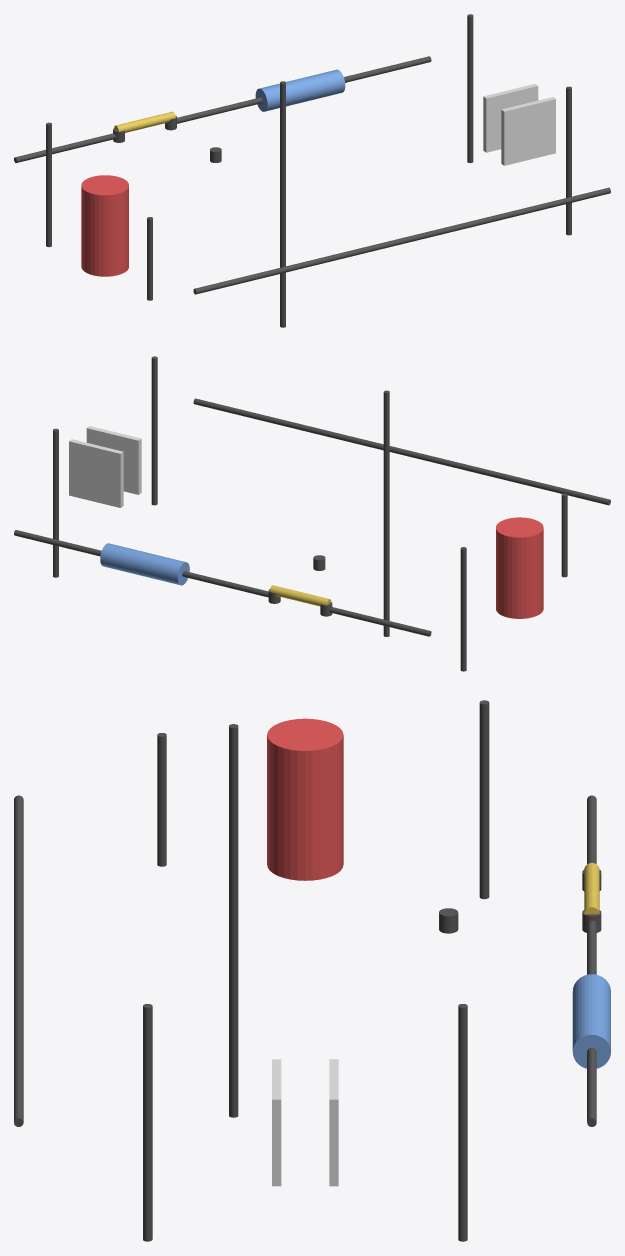
The picture shows the model from 3 angles, top to bottom: view 1: azimuth 30°, elevation 25°; view 2: azimuth 150°, elevation 25°; view 3: azimuth 270°, elevation 25°; orthographic projection. The views are drawn at different scales.
Parts seen in each view (by area): view 1: Battery, Capacitor_Plate2, Wire_Bottom, Resistor, Capacitor_Plate1, Wire_Mid_Bot, Wire_R_Top, Wire_R_Bot, Wire_L_Top, Wire_T_L, Wire_T_R, Switch_Arm (+2 smaller); view 2: Battery, Capacitor_Plate1, Wire_Bottom, Resistor, Capacitor_Plate2, Wire_Mid_Bot, Wire_R_Bot, Wire_L_Top, Wire_R_Top, Wire_T_L, Wire_T_R, Switch_Arm (+2 smaller); view 3: Battery, Wire_Mid_Bot, Wire_Bottom, Resistor, Wire_R_Top, Wire_R_Bot, Wire_L_Top, Wire_L_Bot, Capacitor_Plate1, Capacitor_Plate2, Switch_Arm, Wire_T_R.
Part boxes in pixels (bbox=[...]): Battery: bbox=[81, 175, 128, 276]; Capacitor_Plate2: bbox=[501, 97, 555, 165]; Wire_Bottom: bbox=[193, 187, 610, 294]; Resistor: bbox=[255, 69, 345, 111]; Capacitor_Plate1: bbox=[483, 84, 538, 152]; Wire_Mid_Bot: bbox=[280, 81, 285, 327]; Wire_R_Top: bbox=[467, 14, 473, 163]; Wire_R_Bot: bbox=[566, 86, 571, 235]; Wire_L_Top: bbox=[46, 122, 51, 247]; Wire_T_L: bbox=[14, 133, 115, 162]; Wire_T_R: bbox=[344, 56, 431, 82]; Switch_Arm: bbox=[114, 111, 175, 132]; Battery: bbox=[496, 517, 543, 618]; Capacitor_Plate1: bbox=[69, 439, 123, 507]; Wire_Bottom: bbox=[193, 398, 610, 505]; Resistor: bbox=[100, 543, 189, 585]; Capacitor_Plate2: bbox=[86, 426, 141, 494]; Wire_Mid_Bot: bbox=[383, 390, 389, 636]; Wire_R_Bot: bbox=[151, 356, 157, 505]; Wire_L_Top: bbox=[460, 547, 466, 671]; Wire_R_Top: bbox=[53, 428, 58, 577]; Wire_T_L: bbox=[329, 607, 431, 636]; Wire_T_R: bbox=[14, 530, 101, 556]; Switch_Arm: bbox=[269, 585, 331, 606]; Battery: bbox=[267, 718, 343, 880]; Wire_Mid_Bot: bbox=[229, 724, 238, 1117]; Wire_Bottom: bbox=[14, 795, 23, 1126]; Resistor: bbox=[572, 974, 610, 1068]; Wire_R_Top: bbox=[458, 1004, 467, 1241]; Wire_R_Bot: bbox=[143, 1004, 152, 1241]; Wire_L_Top: bbox=[479, 700, 489, 899]; Wire_L_Bot: bbox=[157, 733, 166, 866]; Capacitor_Plate1: bbox=[329, 1059, 338, 1186]; Capacitor_Plate2: bbox=[272, 1059, 281, 1186]; Switch_Arm: bbox=[584, 863, 599, 914]; Wire_T_R: bbox=[587, 1047, 596, 1126].
Bounding box in the file's own units: 8.9 × 4.5 × 6.25.
